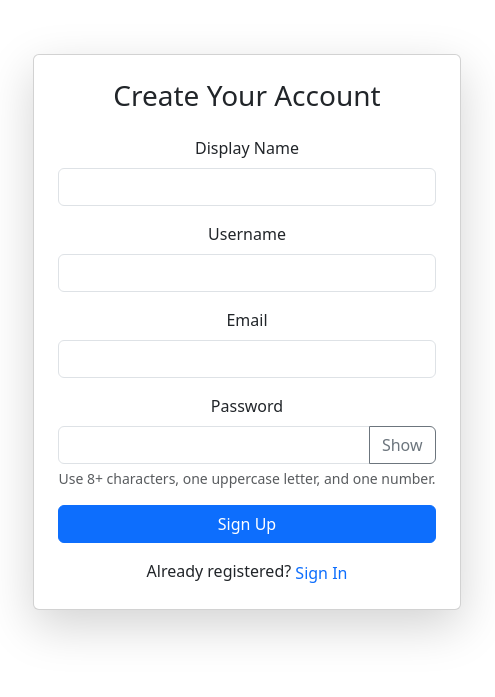
it: shows network error message
In the field labelled "Display Name": (247, 187) [58,168,436,206], type "Jane Doe"
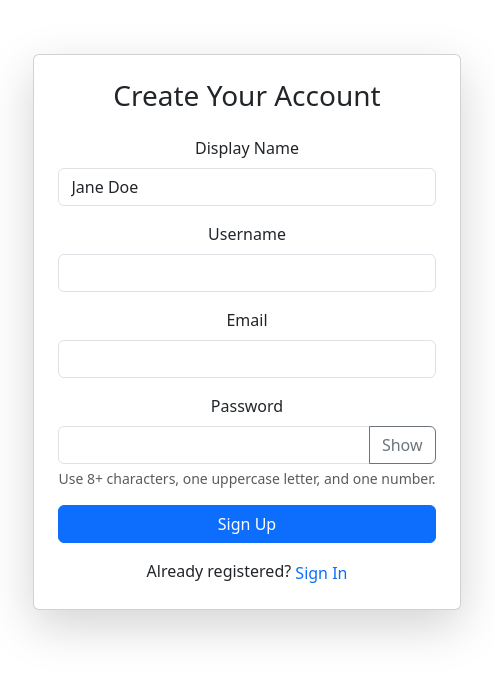
In the field labelled "Username": (247, 273) [58,254,436,292], type "janedoe"
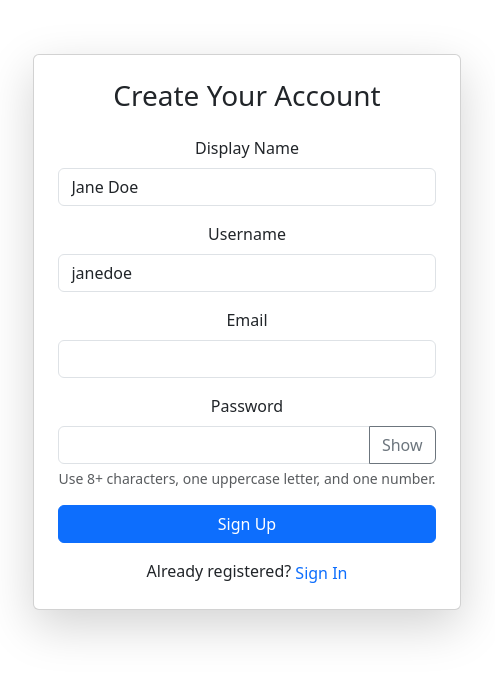
In the field labelled "Email": (247, 359) [58,340,436,378], type "jane@example.com"
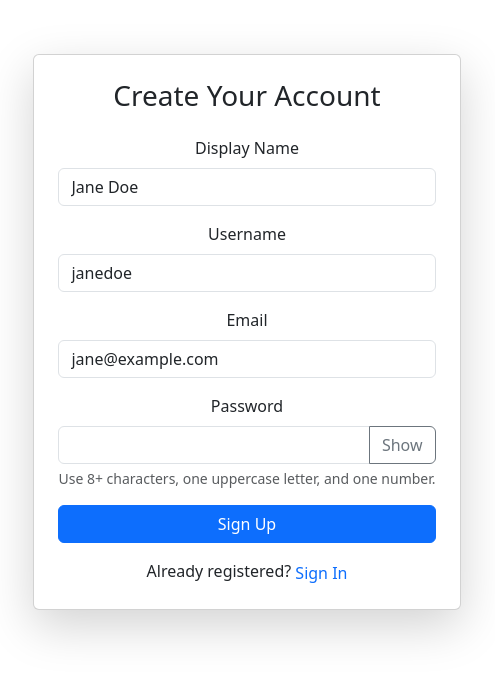
In the password field labelled "Password": (214, 445) [58,426,370,464], type "StrongPass1"
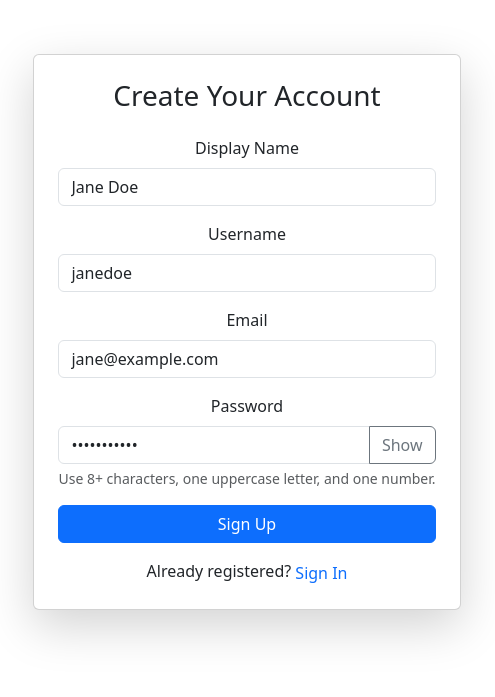
Click the button "Sign Up": (247, 524) [58,505,436,543]
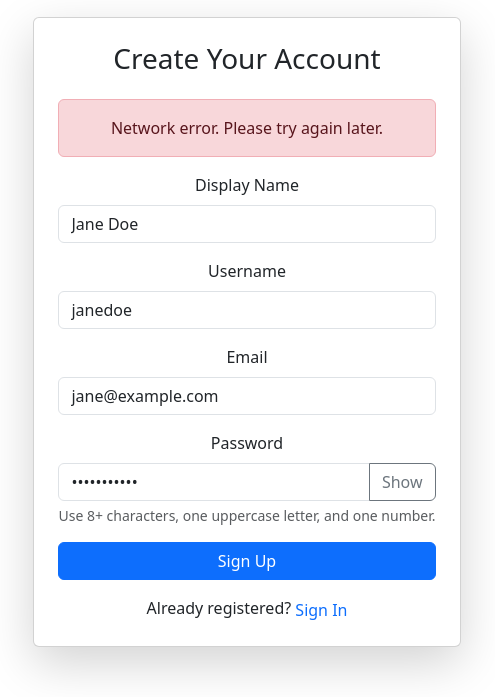
Now the text "Network error. Please try again later." is shown, box [58,99,436,157]
